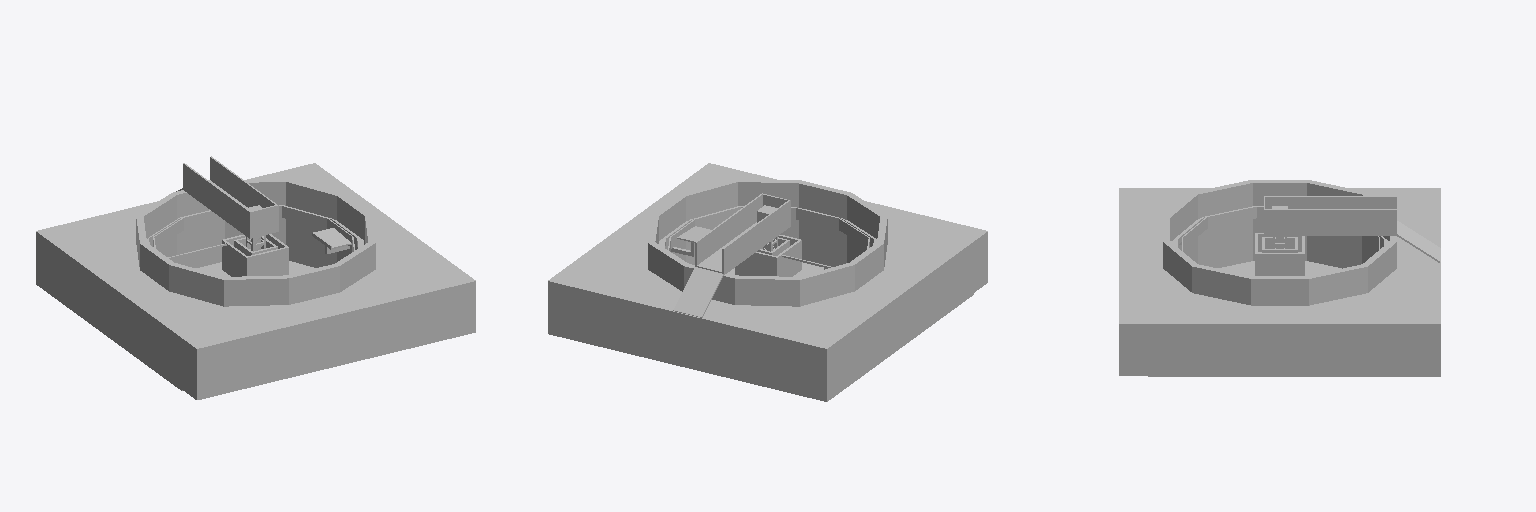
Rendered from clarifier_old.obj.
The picture shows the model from 3 angles: view 1: azimuth 30°, elevation 25°; view 2: azimuth 150°, elevation 25°; view 3: azimuth 270°, elevation 25°; orthographic projection.
Visible parts, largest first — view 1: cube; view 2: cube; view 3: cube.
Boxes of the visible parts, <box> form: cube: <box>36,156,475,399</box>; cube: <box>548,163,987,401</box>; cube: <box>1119,180,1440,376</box>.
Size of the model in its own units: 11 by 4 by 11.